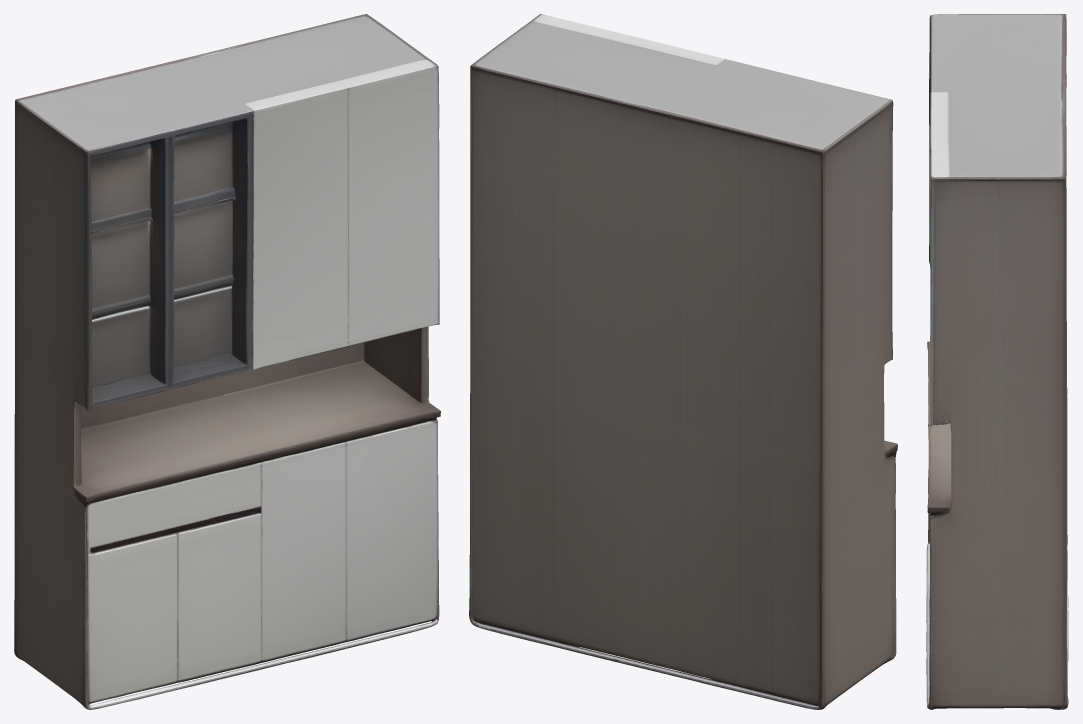
The picture shows the model from 3 angles, left to right: view 1: azimuth 30°, elevation 25°; view 2: azimuth 150°, elevation 25°; view 3: azimuth 270°, elevation 25°; orthographic projection. The views are drawn at different scales.
Visible parts, largest first — view 1: world; view 2: world; view 3: world.
Boxes of the visible parts, x1,y1,x2,y2 form: world: (14, 14, 440, 709); world: (469, 14, 897, 709); world: (926, 14, 1068, 709).
Bounding box in the file's own units: 0.6648 × 1 × 0.2408.
1 material, 1 textured.
